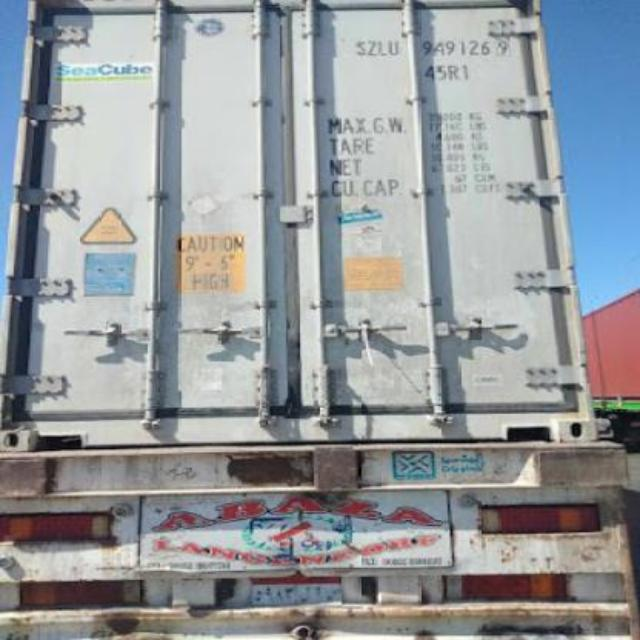1: (456, 32, 466, 58)
2: (468, 30, 480, 64)
4: (432, 34, 446, 60)
6: (478, 31, 492, 61)
9: (494, 34, 512, 54), (420, 34, 432, 60), (442, 34, 456, 56)
L: (376, 33, 388, 63)
S: (346, 32, 366, 58)
U: (386, 33, 402, 63)
Z: (364, 32, 378, 62)
